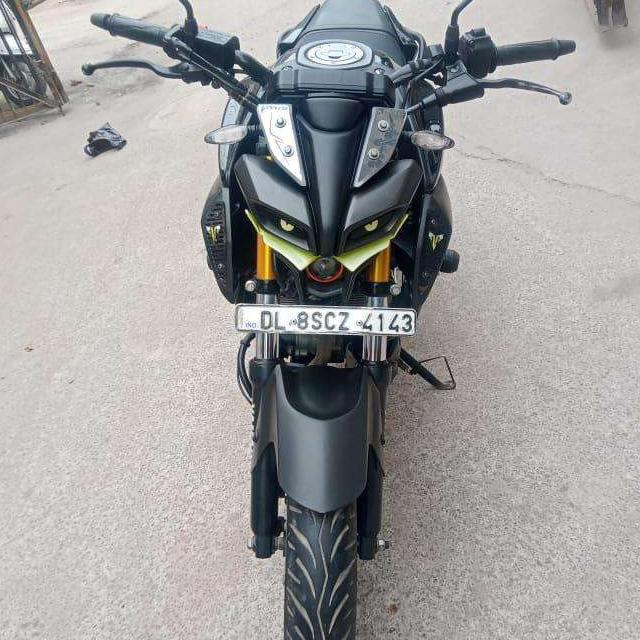Indian_Number_Plate: (237, 306, 416, 337)
